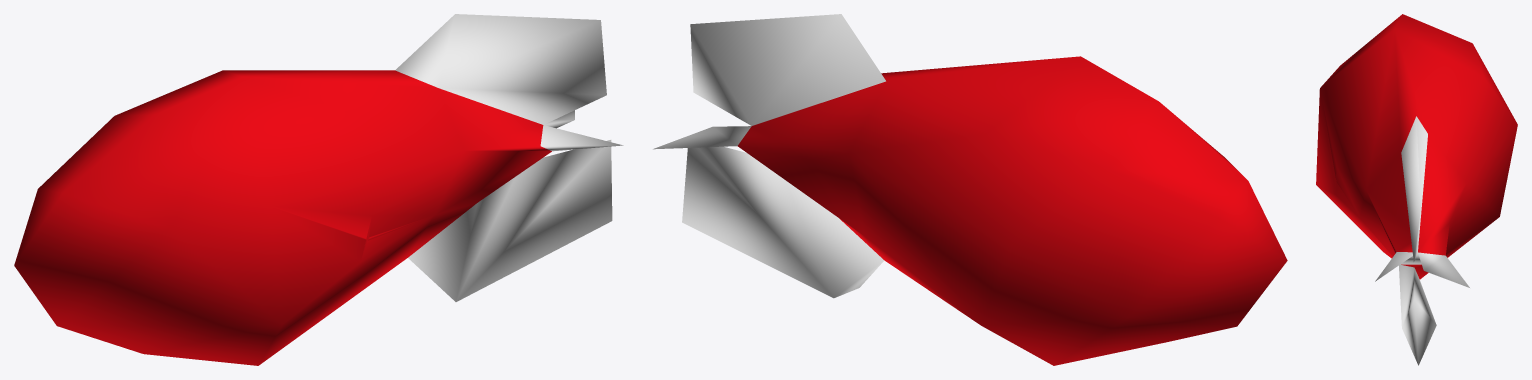
File: nukeLow.fbx
The picture shows the model from 3 angles, left to right: view 1: azimuth 30°, elevation 25°; view 2: azimuth 150°, elevation 25°; view 3: azimuth 270°, elevation 25°; orthographic projection. The views are drawn at different scales.
Visible parts, largest first — view 1: Mesh_0; view 2: Mesh_0; view 3: Mesh_0.
Boxes of the visible parts, x1,y1,x2,y2 form: Mesh_0: (14, 14, 623, 365); Mesh_0: (653, 14, 1287, 365); Mesh_0: (1316, 14, 1517, 365).
Bounding box in the file's own units: 121 × 54.9 × 45.58.
